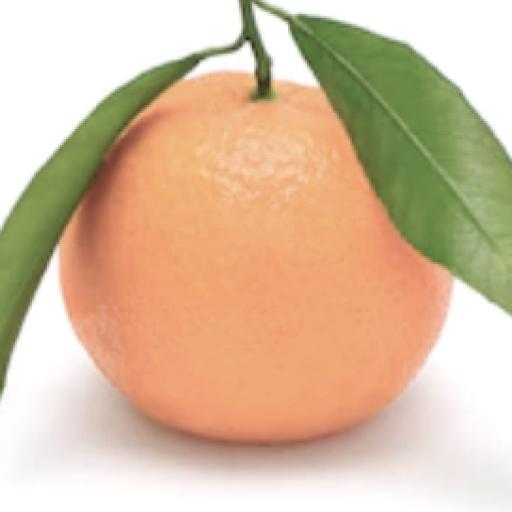orange: (60, 74, 450, 442)
